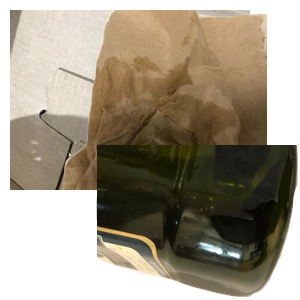cardboard: (10, 10, 250, 190)
glass: (94, 184, 253, 300)
plastic: (97, 145, 300, 300)
trash: (60, 10, 300, 190)
